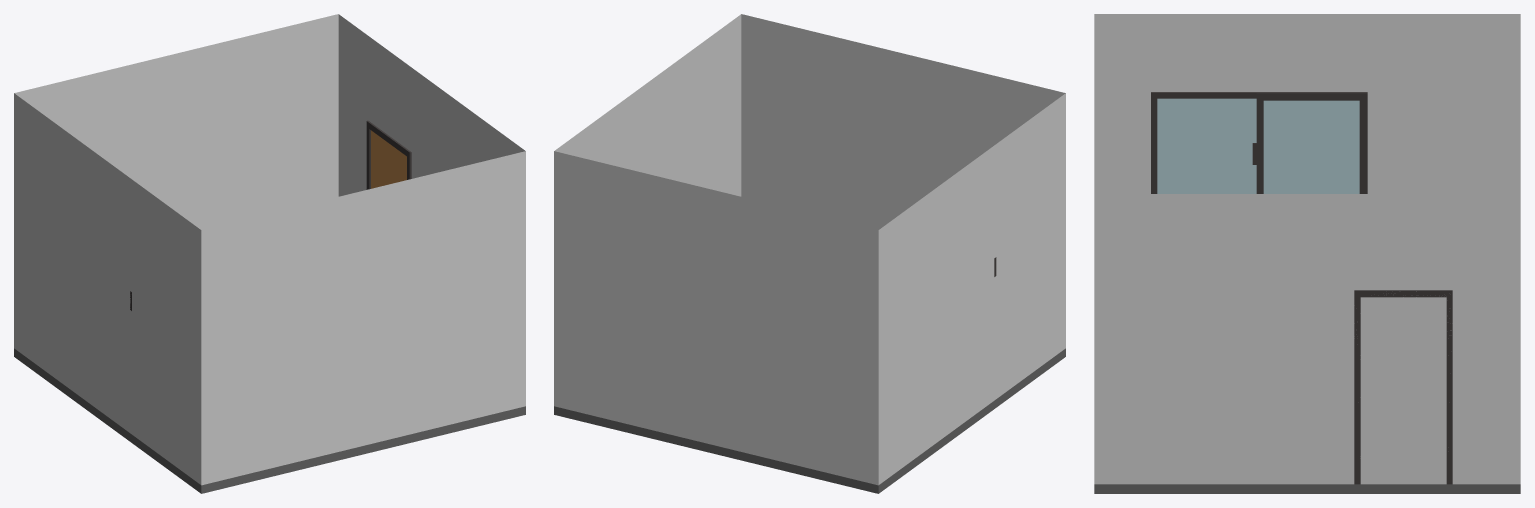
The model's file is GenericRoomLayout.fbx.
3 renders of one model, left to right at view 1: azimuth 30°, elevation 25°; view 2: azimuth 150°, elevation 25°; view 3: azimuth 270°, elevation 25°, orthographic. The views are drawn at different scales.
Parts seen in each view (by area): view 1: walls, floor, door, doorframe; view 2: walls, floor; view 3: walls, window pane, floor, window frame, doorframe.
Part boxes in pixels (x1,y1,x2,y2): walls: [14, 14, 525, 485]; floor: [14, 348, 525, 493]; door: [371, 130, 406, 188]; doorframe: [366, 120, 411, 189]; walls: [554, 14, 1065, 485]; floor: [554, 348, 1065, 493]; walls: [1094, 14, 1520, 484]; window pane: [1157, 98, 1359, 193]; floor: [1094, 484, 1520, 493]; window frame: [1151, 92, 1367, 193]; doorframe: [1354, 290, 1452, 484].
Bounding box in the file's own units: 396 × 308 × 396.
